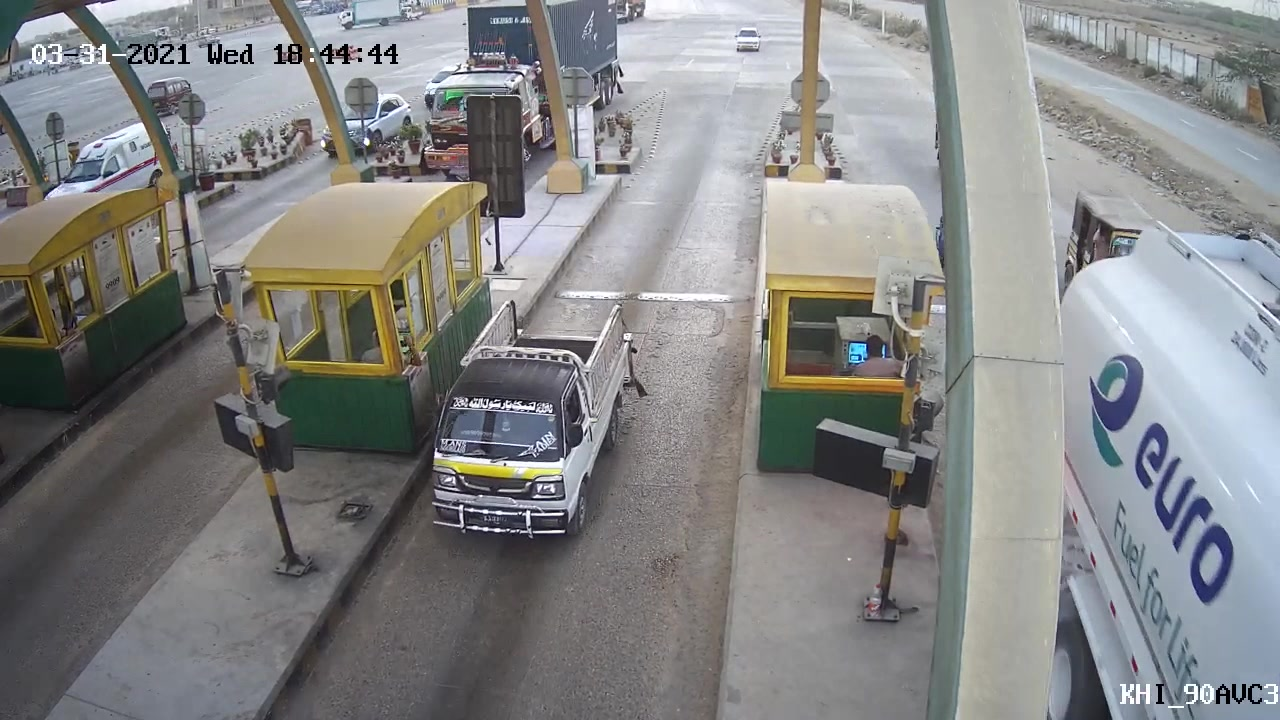F1: (410, 290, 639, 552)
